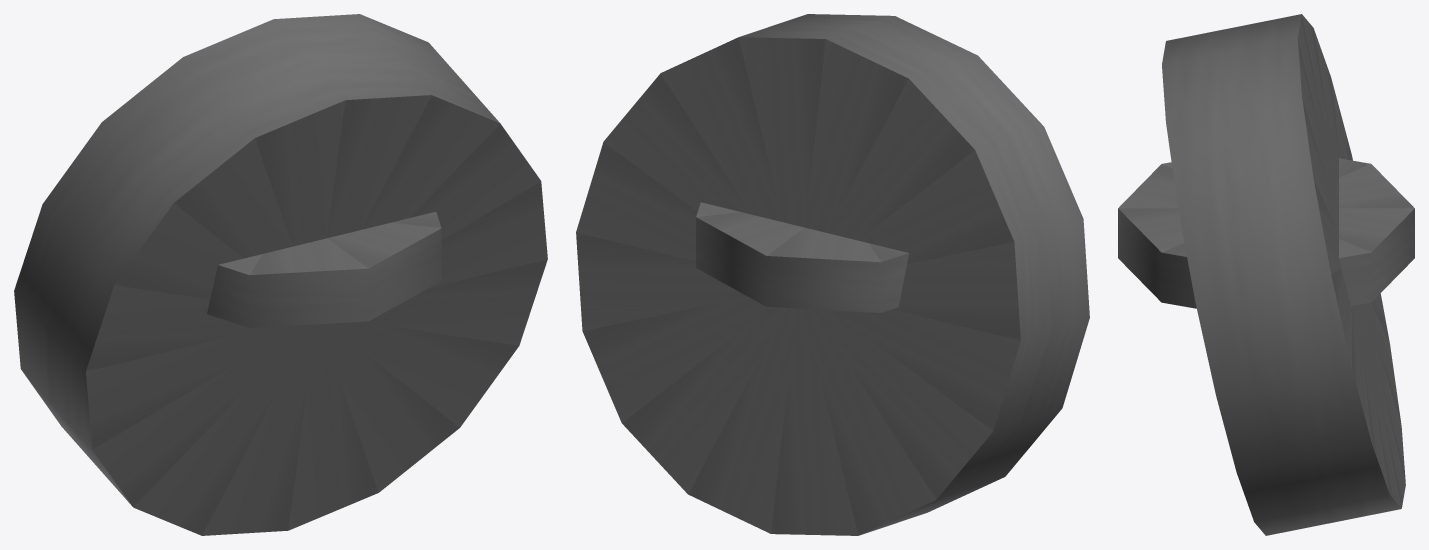
Rendered from mastarmcurve_10x2_c5_up.obj.
3 renders of one model, left to right at view 1: azimuth 30°, elevation 25°; view 2: azimuth 150°, elevation 25°; view 3: azimuth 270°, elevation 25°, orthographic. The views are drawn at different scales.
Parts seen in each view (by area): view 1: mastarm_10x2_c5_up; view 2: mastarm_10x2_c5_up; view 3: mastarm_10x2_c5_up.
Part boxes in pixels (box(x1,y1,x2,y2)): mastarm_10x2_c5_up: box(14, 14, 547, 535); mastarm_10x2_c5_up: box(576, 14, 1089, 535); mastarm_10x2_c5_up: box(1118, 14, 1414, 535).
Size of the model in its own units: 0.681 by 0.7053 by 0.4.
